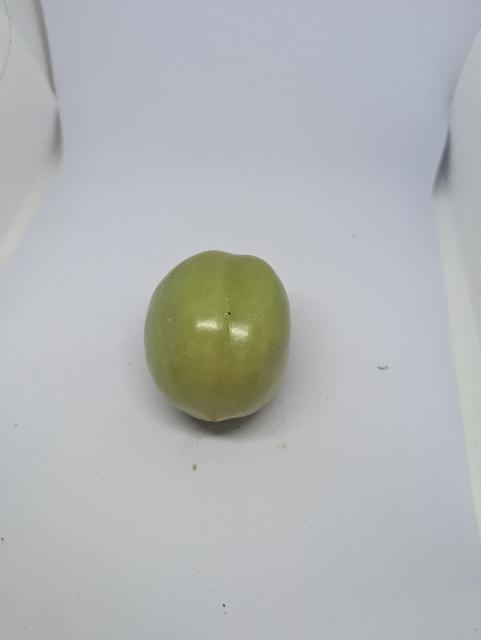green: (143, 248, 294, 424)
